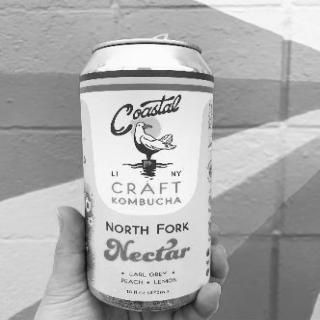alumunium_can: (74, 33, 220, 311)
